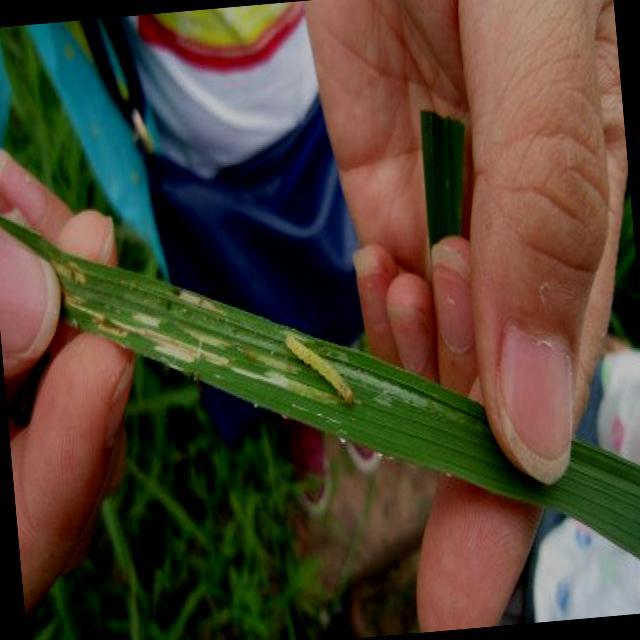leaf folder: (285, 333, 351, 404)
